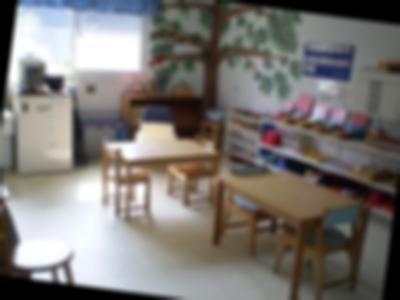Electrodomestico: (10, 85, 82, 174)
